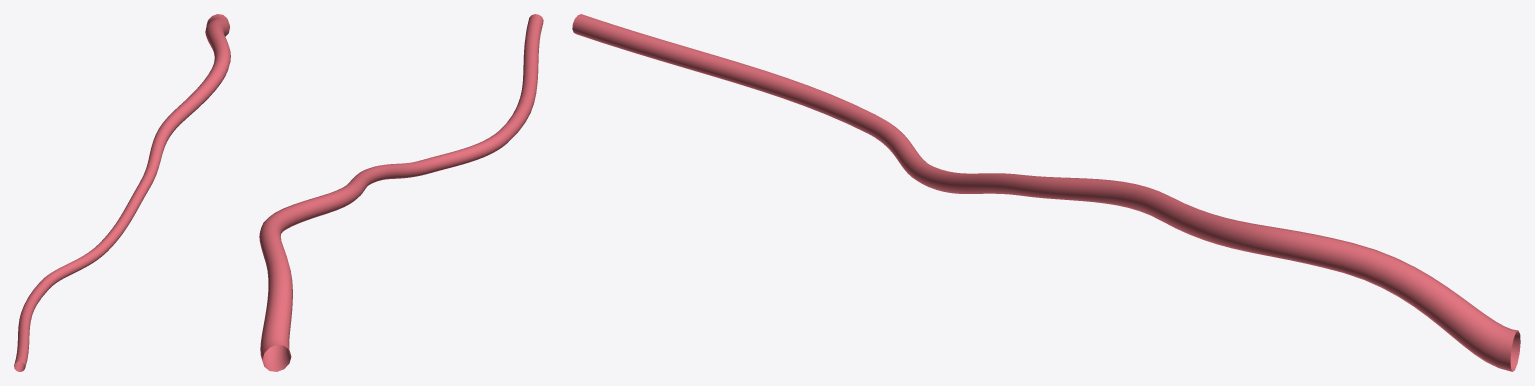
The picture shows the model from 3 angles, left to right: view 1: azimuth 30°, elevation 25°; view 2: azimuth 210°, elevation 25°; view 3: azimuth 270°, elevation 25°; orthographic projection. The views are drawn at different scales.
Visible parts, largest first — view 1: ZA_e51839d7741a9d5b; view 2: ZA_e51839d7741a9d5b; view 3: ZA_e51839d7741a9d5b.
Part boxes in pixels (box(x1,y1,x2,y2)): ZA_e51839d7741a9d5b: box(14, 14, 230, 371); ZA_e51839d7741a9d5b: box(259, 14, 543, 371); ZA_e51839d7741a9d5b: box(572, 14, 1520, 371).
Bounding box in the file's own units: 0.0469 × 0.00859 × 0.0452.
